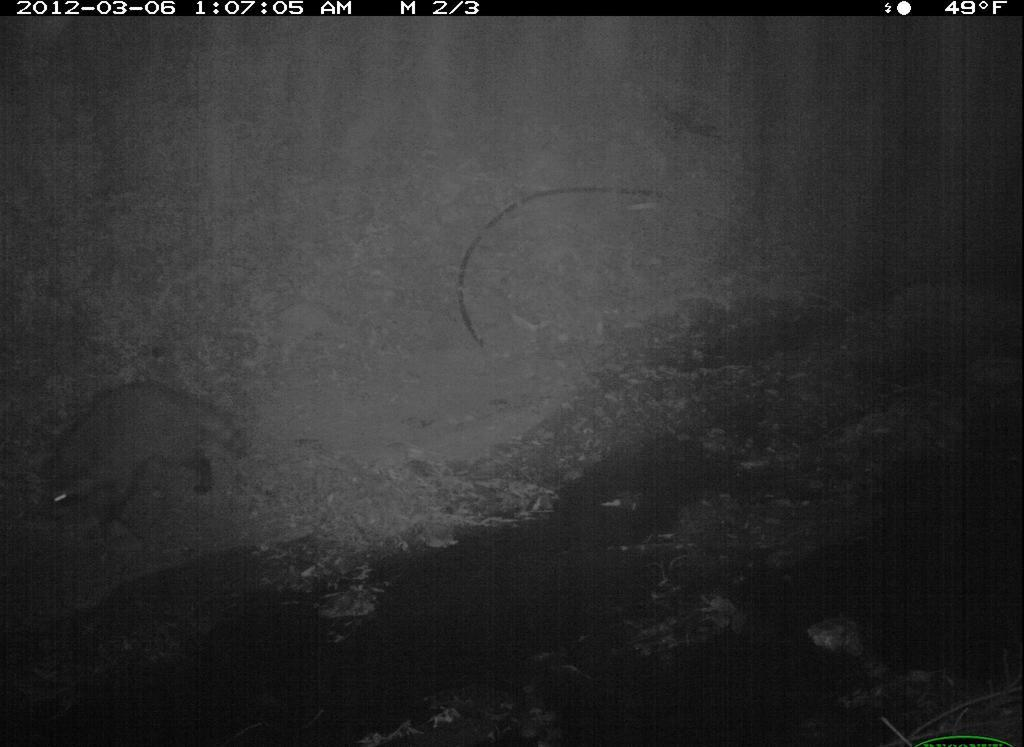raccoon: (41, 377, 254, 539)
